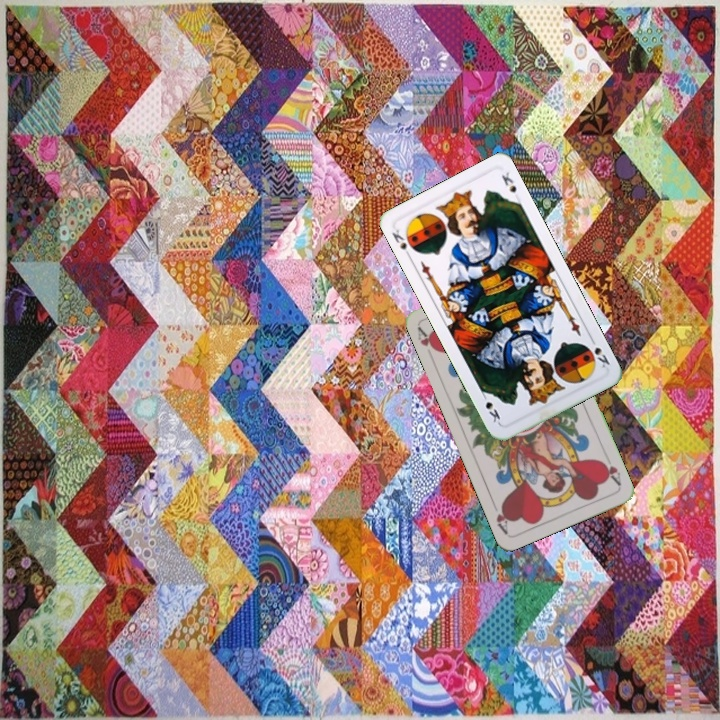HA: (413, 324, 441, 363), (596, 455, 624, 488)
SK: (388, 225, 419, 261), (583, 333, 612, 371)
